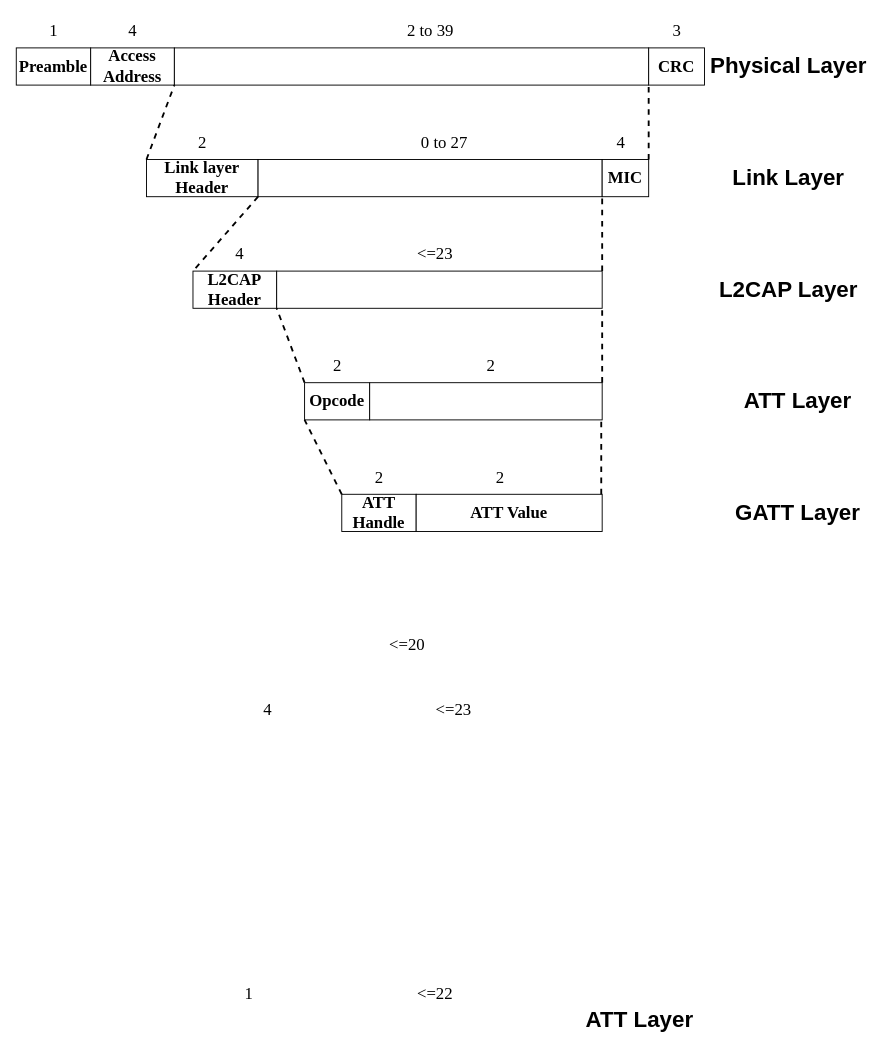
This 883x1055 diagram has some shape labels left out. The box of each missing label's shape, as (x1, y1, x2, y2) in pixels:
ATT Parameters: (369, 382, 602, 420)
L2CAP PayLoad: (276, 270, 602, 308)
Payload: (257, 159, 602, 197)
Protocol Data Unit （ PDU）: (173, 47, 649, 85)
